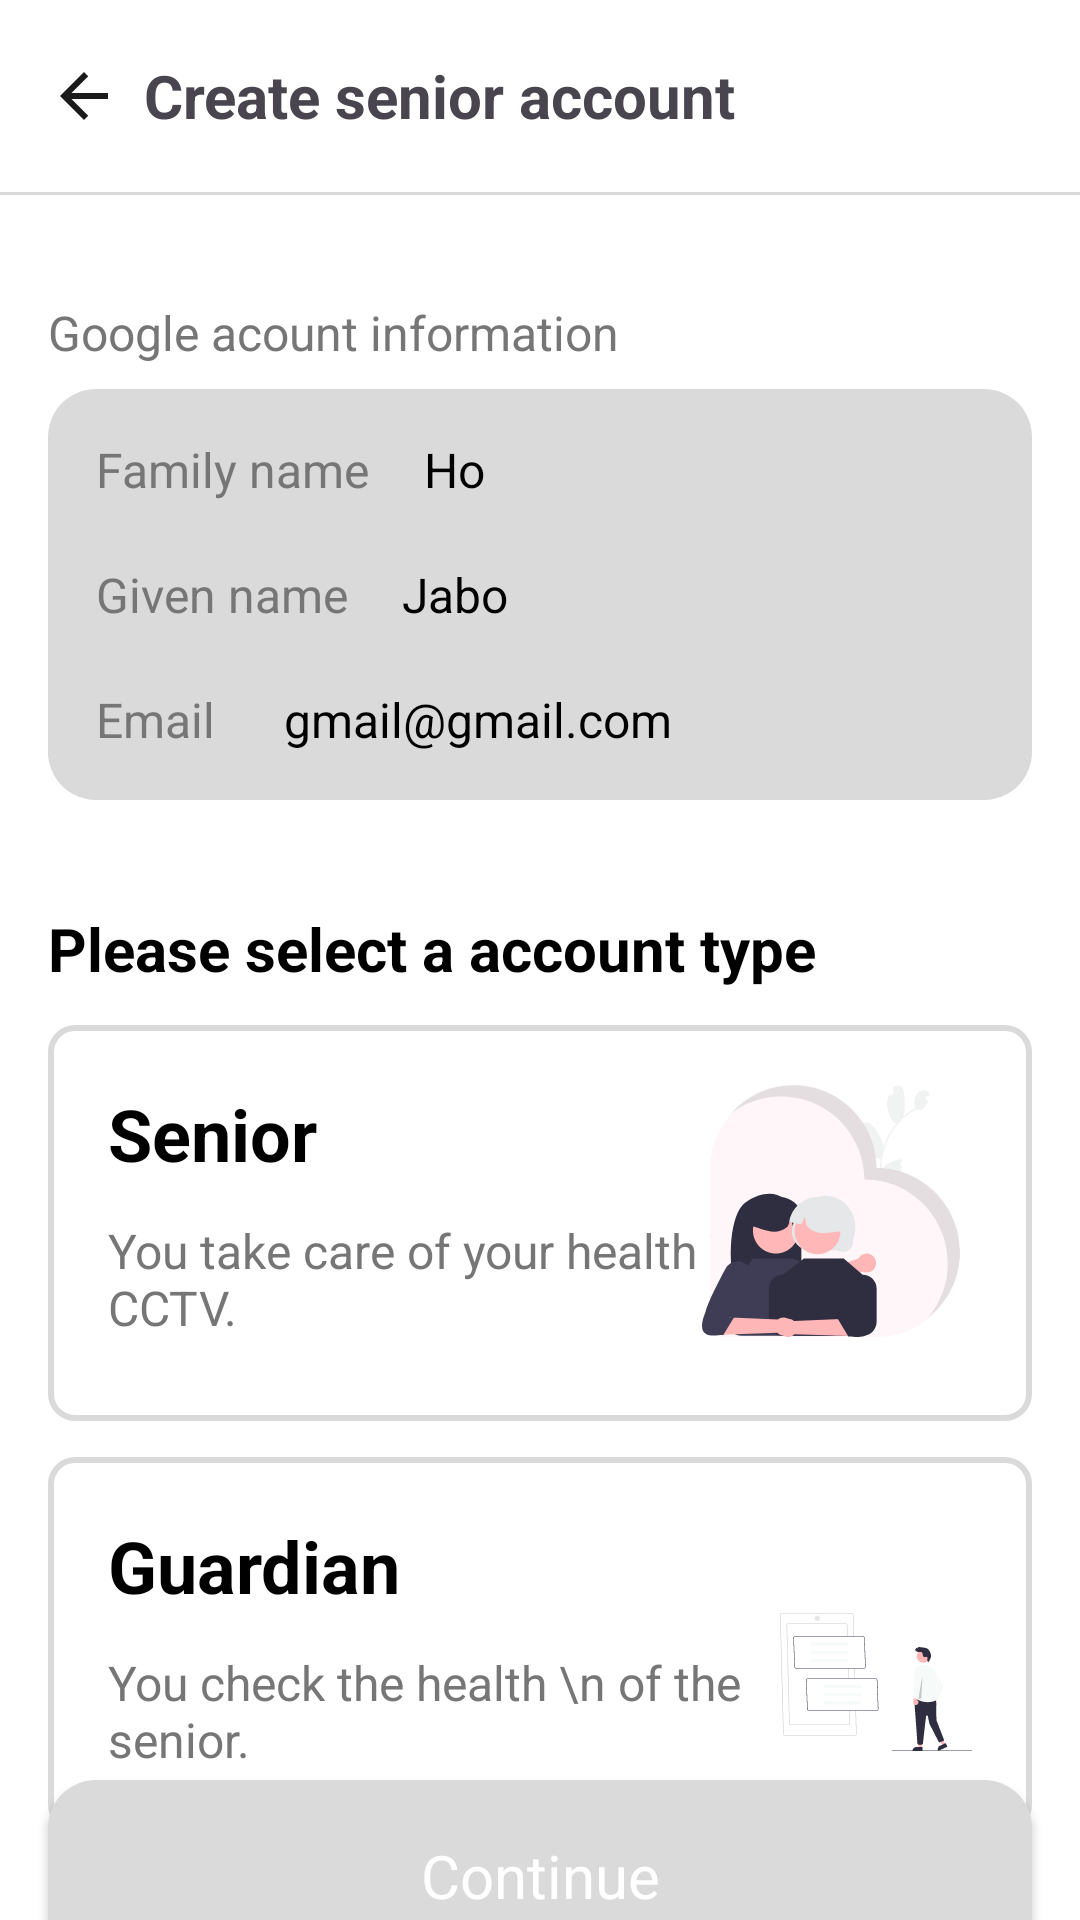

Screen size 1080 × 1920. Icon name, then its box in pixels as Rect(x1, y1, x2, y2):
type senior: Rect(690, 1085, 960, 1337)
